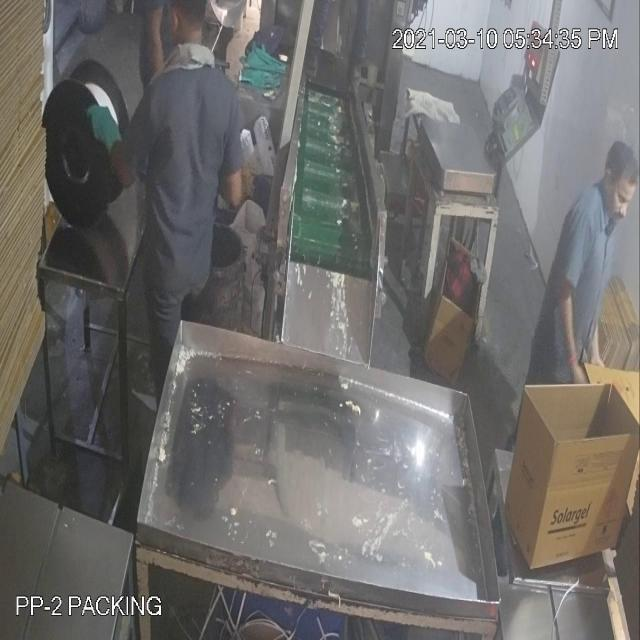No_Gloves: (550, 266, 594, 400)
